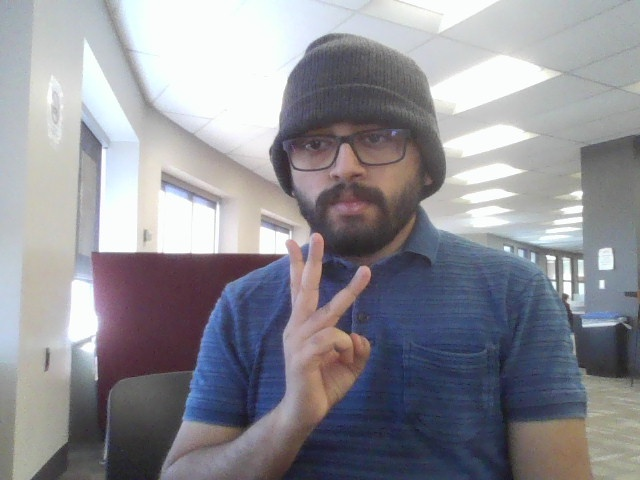start: (258, 225, 393, 434)
